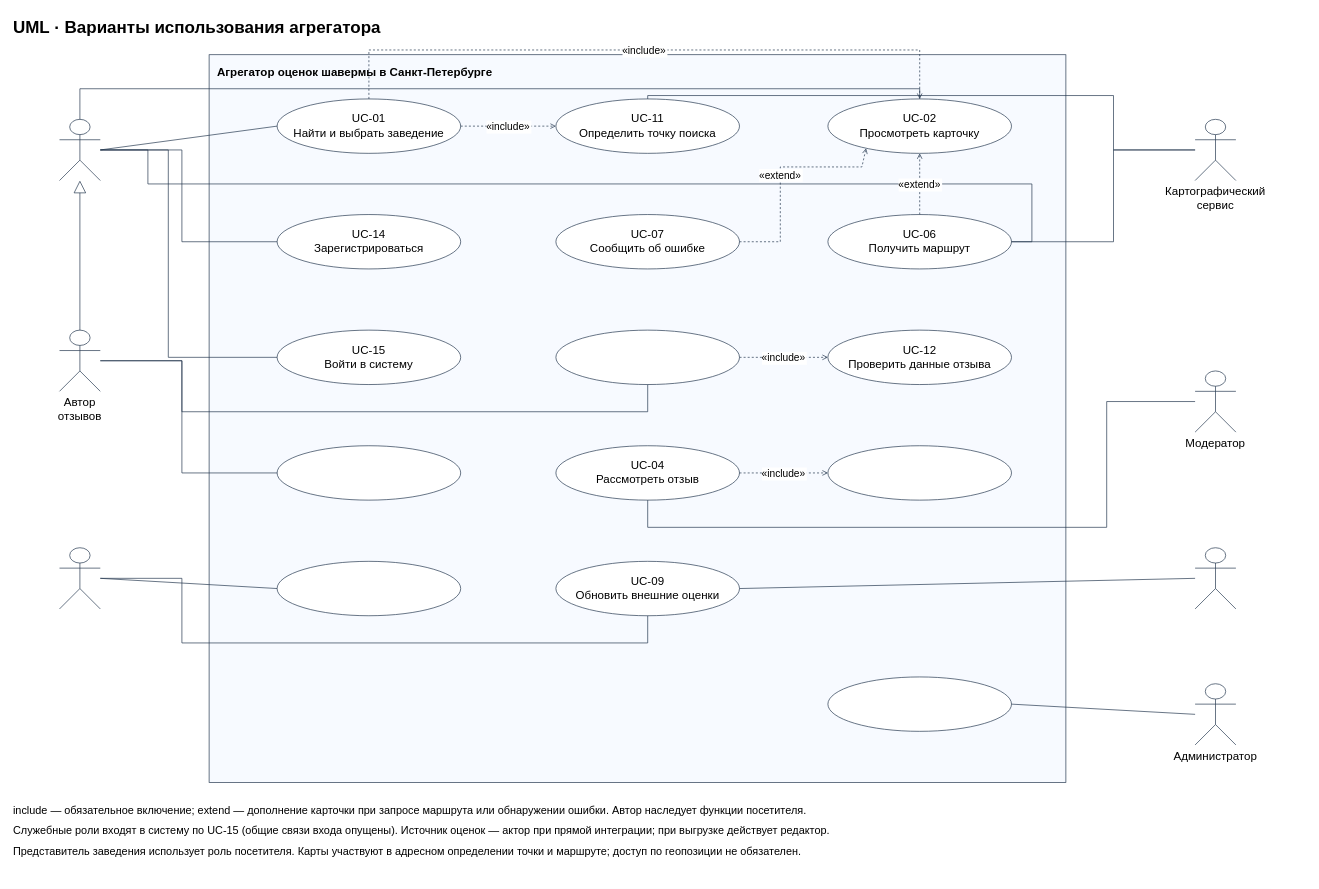
The diagram is 1319 pixels wide and 889 high, and some of its shapes have lost their labels. Here are the shapes that lost their labels. From the top down, the centre of each, then its label:
At (79,150): "Посетитель".
At (647,357): "UC-03 Отправить оценку и отзыв".
At (368,472): "UC-05 Проверить свой отзыв".
At (919,472): "UC-13 Зафиксировать решение".
At (79,578): "Редактор каталога".
At (368,588): "UC-08 Вести каталог".
At (1215,578): "Источник внешних оценок".
At (919,703): "UC-10 Управлять ролями".
